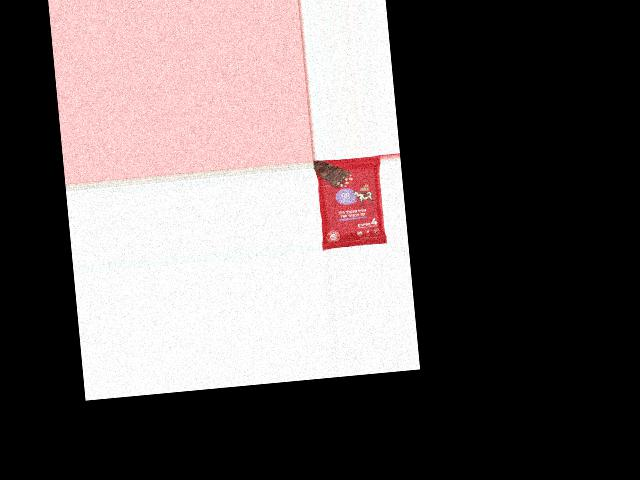chocolate: (315, 155, 388, 250)
